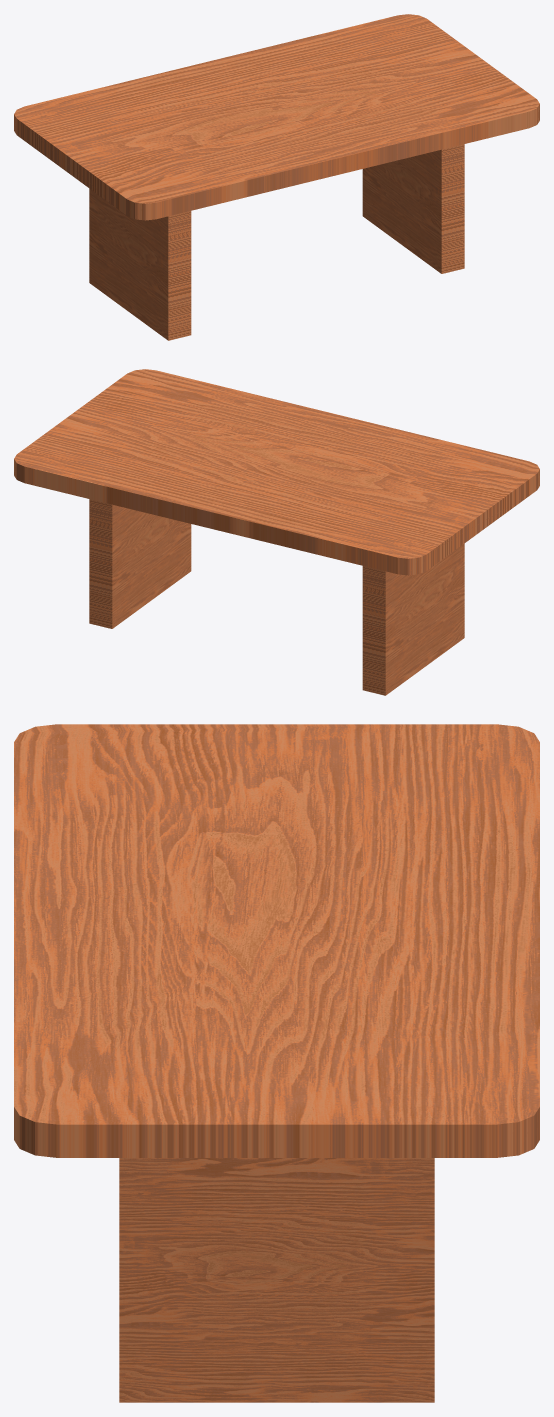
3 views of the same model, one above another, from view 1: azimuth 30°, elevation 25°; view 2: azimuth 150°, elevation 25°; view 3: azimuth 270°, elevation 25° (orthographic). The views are drawn at different scales.
Visible parts, largest first — view 1: MC-41; view 2: MC-41; view 3: MC-41.
Part boxes in pixels (x1,y1,x2,y2): MC-41: [14, 14, 539, 340]; MC-41: [14, 369, 539, 695]; MC-41: [14, 724, 539, 1402].
Bounding box in the file's own units: 180 × 70 × 100.
1 material, 1 textured.
